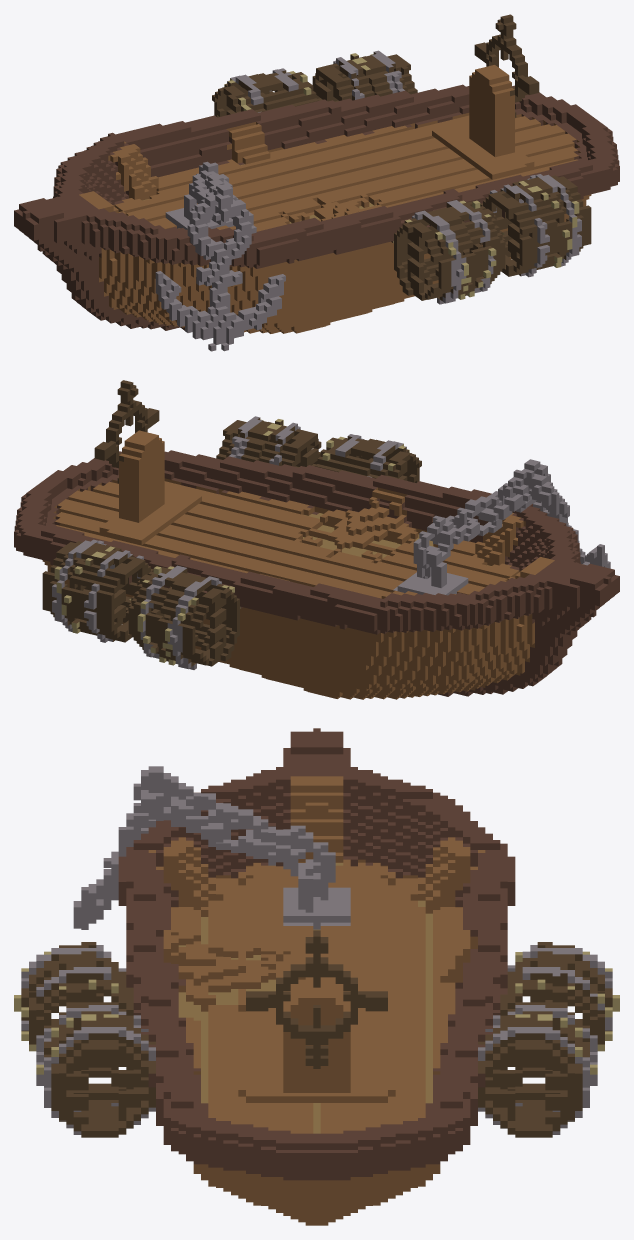
File: Ship_Small_Voxelized.glb
3 renders of one model, top to bottom at view 1: azimuth 30°, elevation 25°; view 2: azimuth 150°, elevation 25°; view 3: azimuth 270°, elevation 25°, orthographic. The views are drawn at different scales.
Parts seen in each view (by area): view 1: Ship_Small_Voxelized; view 2: Ship_Small_Voxelized; view 3: Ship_Small_Voxelized.
Boxes of the visible parts, x1,y1,x2,y2 form: Ship_Small_Voxelized: [14, 14, 619, 351]; Ship_Small_Voxelized: [14, 380, 619, 699]; Ship_Small_Voxelized: [14, 728, 619, 1225].
Bounding box in the file's own units: 5.14 × 2.01 × 3.62.
1 material, 1 textured.
